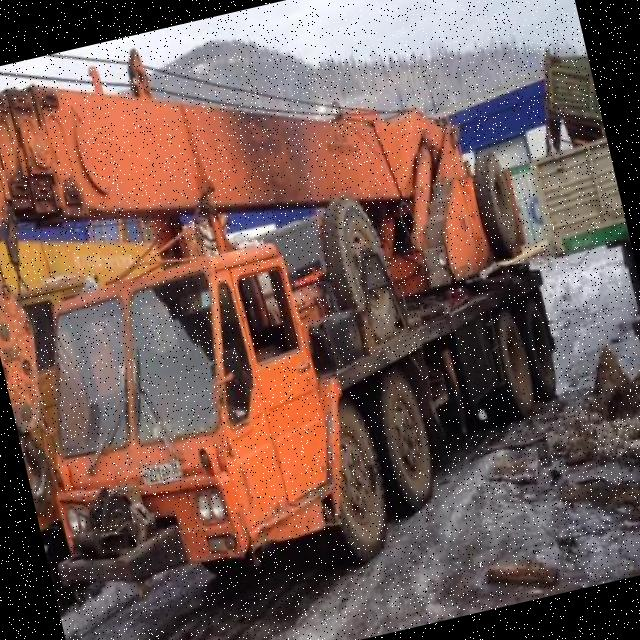Mobile Crane: (0, 0, 594, 631)
